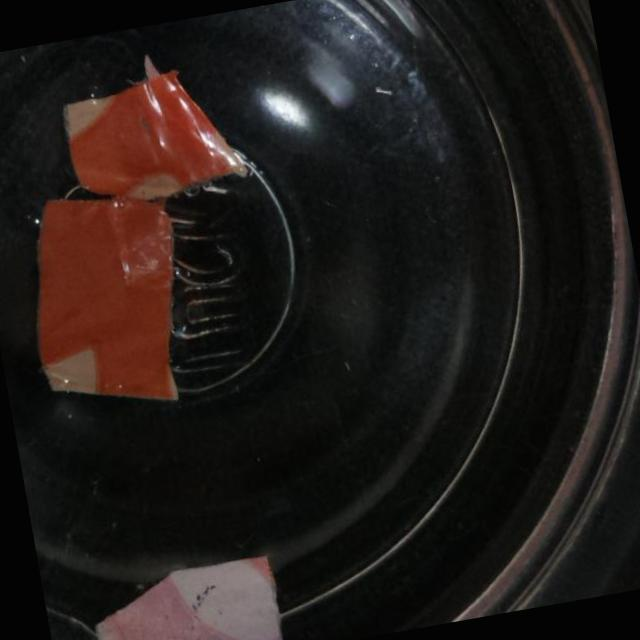fiber: (11, 182, 204, 422), (44, 51, 270, 216), (67, 543, 296, 640)
